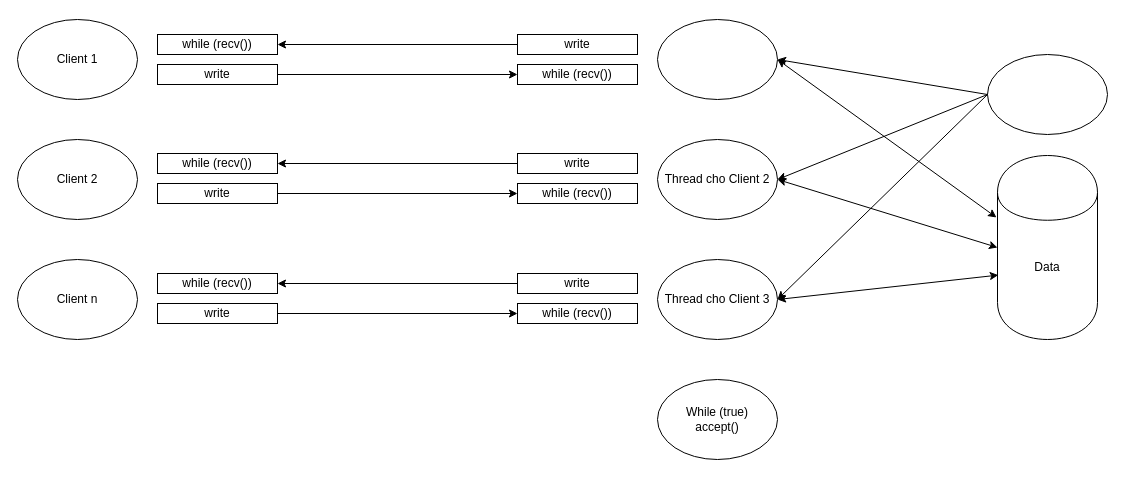
This 1125x477 diagram has some shape labels left out. Each missing label, with the centre of its shape:
"Thread cho Client 1" goes at (x=717, y=59).
"Thread update bảng xếp hạng" goes at (x=1047, y=94).
